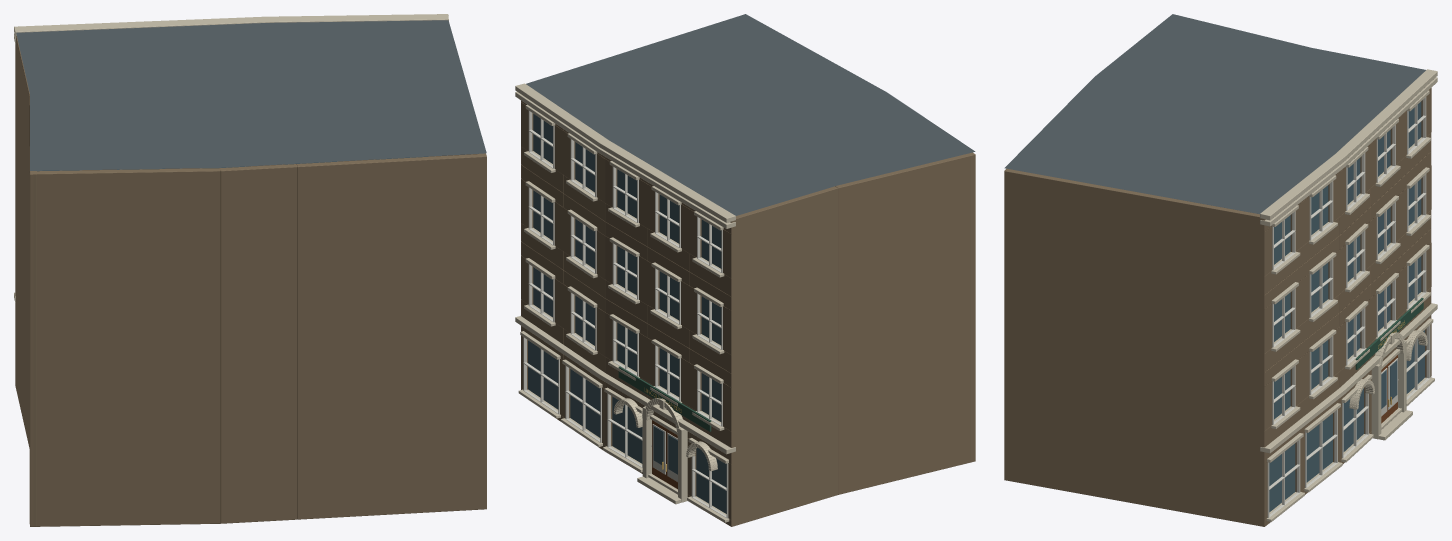
Rendered from lch-exterior-fcaf4f051c80.glb.
3 renders of one model, left to right at view 1: azimuth 30°, elevation 25°; view 2: azimuth 150°, elevation 25°; view 3: azimuth 270°, elevation 25°, orthographic. The views are drawn at different scales.
Visible parts, largest first — view 1: LCH.001; view 2: LCH.001; view 3: LCH.001.
Part boxes in pixels (x1,y1,x2,y2): LCH.001: (14, 14, 486, 526); LCH.001: (515, 14, 975, 526); LCH.001: (1004, 14, 1437, 526).
Bounding box in the file's own units: 18.97 × 13.65 × 17.15.
